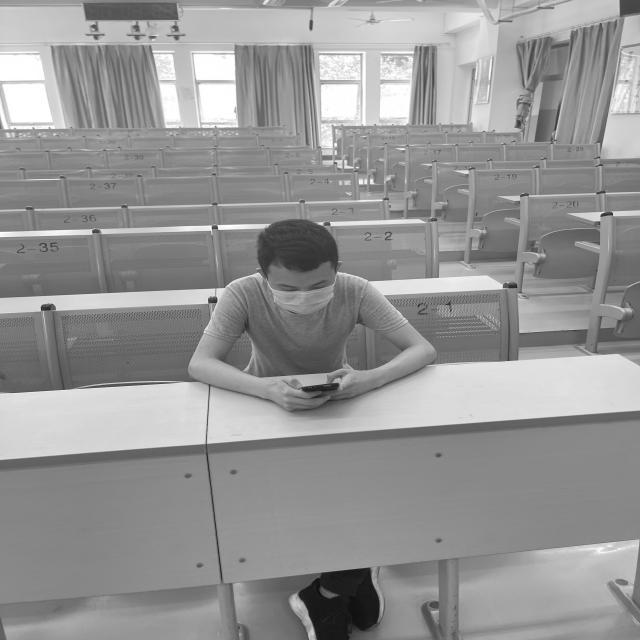phone: (186, 219, 435, 410)
